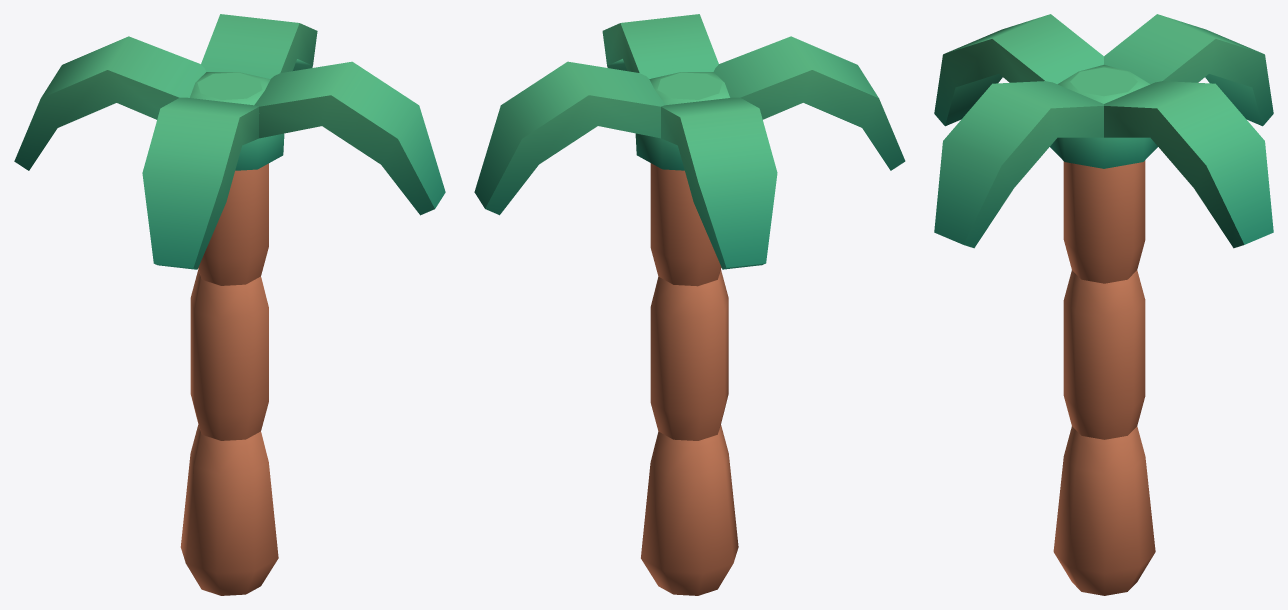
Rendered from palm_0.fbx.
3 renders of one model, left to right at view 1: azimuth 30°, elevation 25°; view 2: azimuth 150°, elevation 25°; view 3: azimuth 270°, elevation 25°, orthographic.
Parts seen in each view (by area): view 1: palm_0; view 2: palm_0; view 3: palm_0.
Part boxes in pixels (left/top/right/bottom): palm_0: left=14, top=14, right=445, bottom=595; palm_0: left=474, top=14, right=905, bottom=595; palm_0: left=934, top=14, right=1273, bottom=595.
Size of the model in its own units: 2.49 by 4.21 by 2.49.
Materials: 1 (1 with a texture image).
